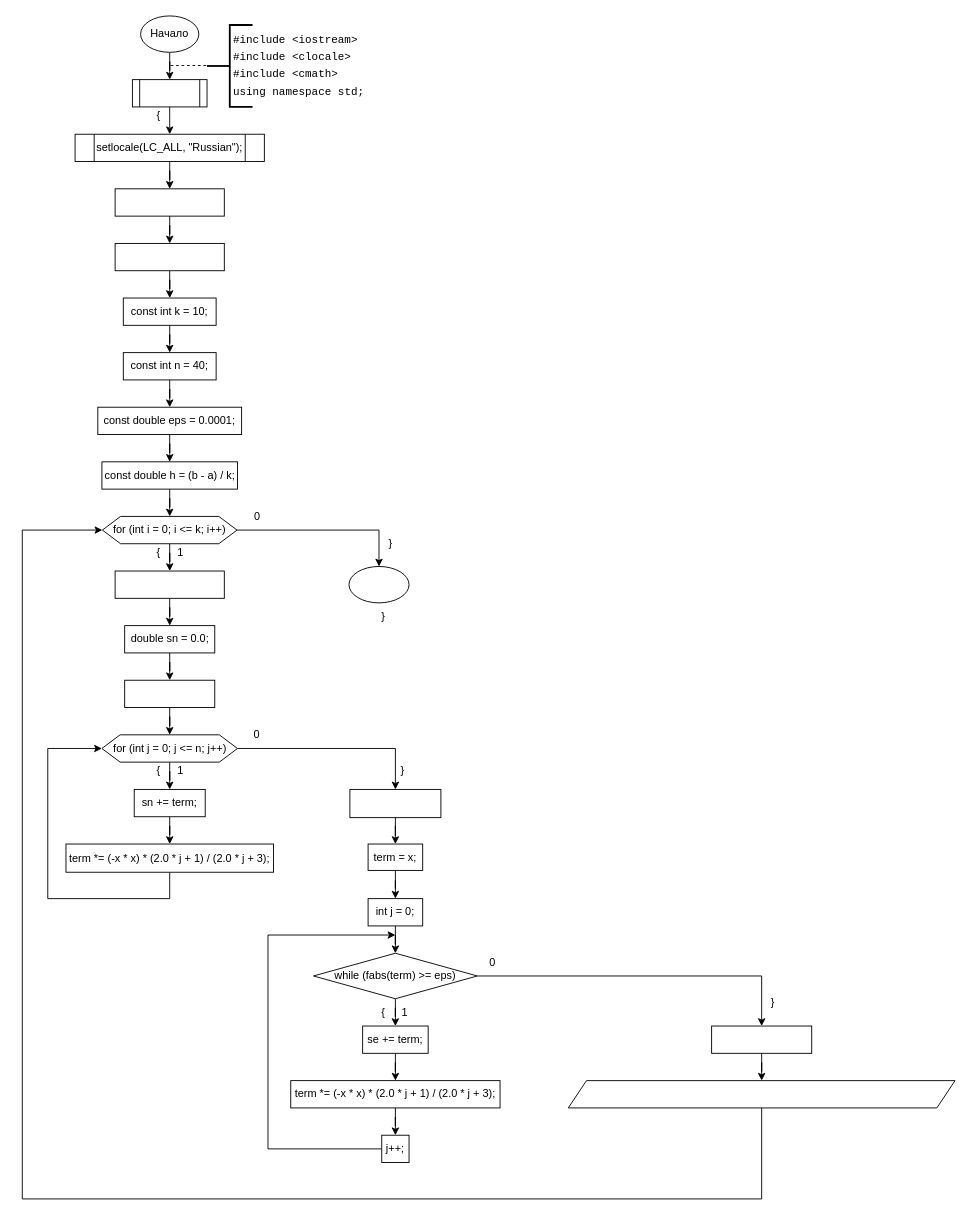
This 971x1222 diagram has some shape labels left out. Each missing label, with the box of its shape:
const double a = 0.1;: (114, 188, 224, 216)
const double b = 1.0;: (114, 243, 224, 271)
cout << "X: " << x << " Sn: " << sn << " Se: " << se << " Y: " << y << endl;: (567, 1080, 955, 1108)
double se = 0.0;: (349, 789, 441, 818)
double term = x;: (124, 679, 215, 708)
double x = a + i * h;: (114, 570, 224, 598)
double y = atan(x);: (711, 1025, 812, 1053)
int main(): (131, 79, 207, 107)
return 0;: (348, 566, 409, 603)
